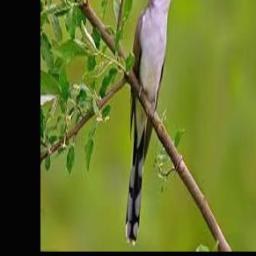Cuckoo: (124, 0, 183, 245)
